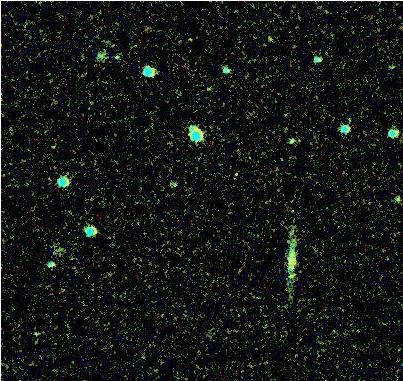star: (276, 260, 306, 290)
